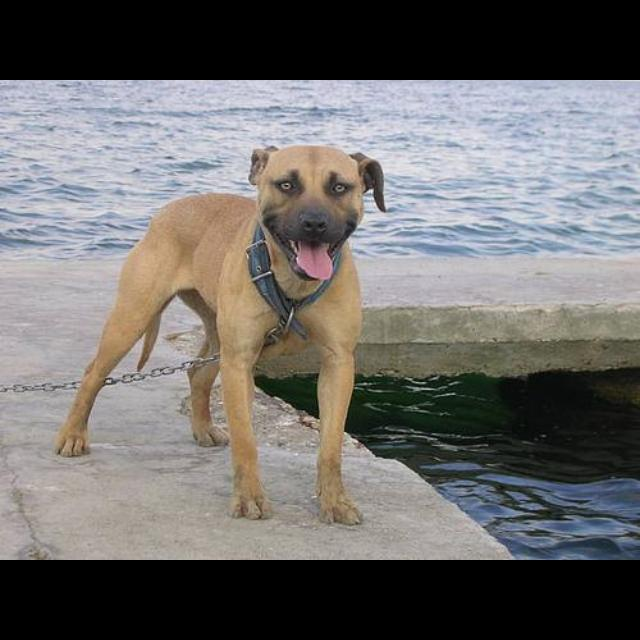amstaff: (54, 144, 388, 526)
